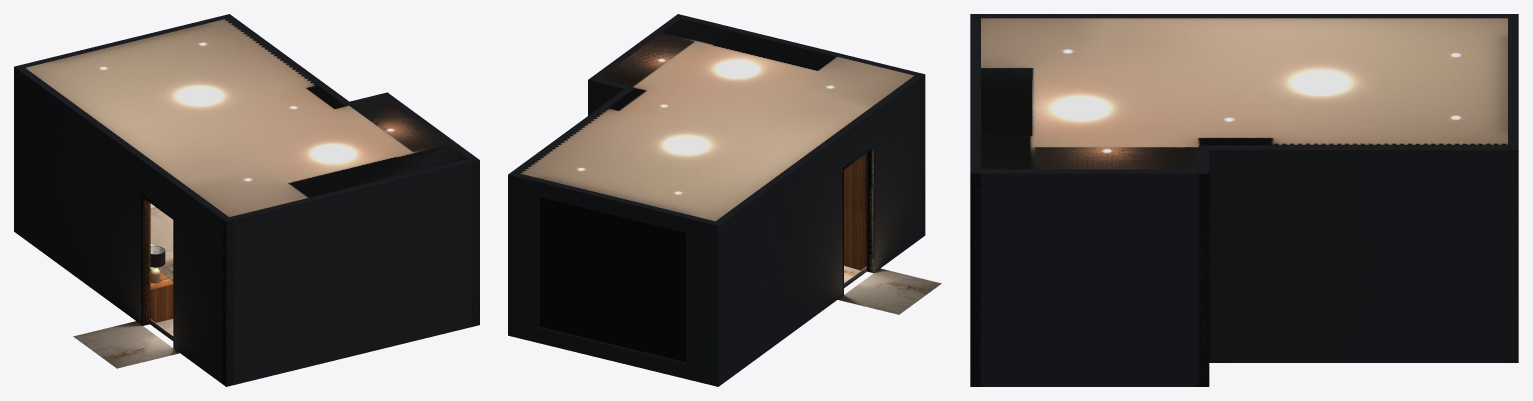
The model's file is cuarto_horneado.glb.
3 views of the same model, side by side, from view 1: azimuth 30°, elevation 25°; view 2: azimuth 150°, elevation 25°; view 3: azimuth 270°, elevation 25° (orthographic). The views are drawn at different scales.
Visible parts, largest first — view 1: superficies, cama, lampara_0; view 2: superficies; view 3: superficies.
Part boxes in pixels (x1,y1,x2,y2): superficies: [14, 14, 479, 386]; cama: [150, 207, 173, 281]; lampara_0: [150, 246, 165, 282]; superficies: [508, 14, 941, 386]; superficies: [970, 14, 1518, 386].
Size of the model in its own units: 5.42 by 2.71 by 6.29.
Materials: 6 (1 with a texture image).
